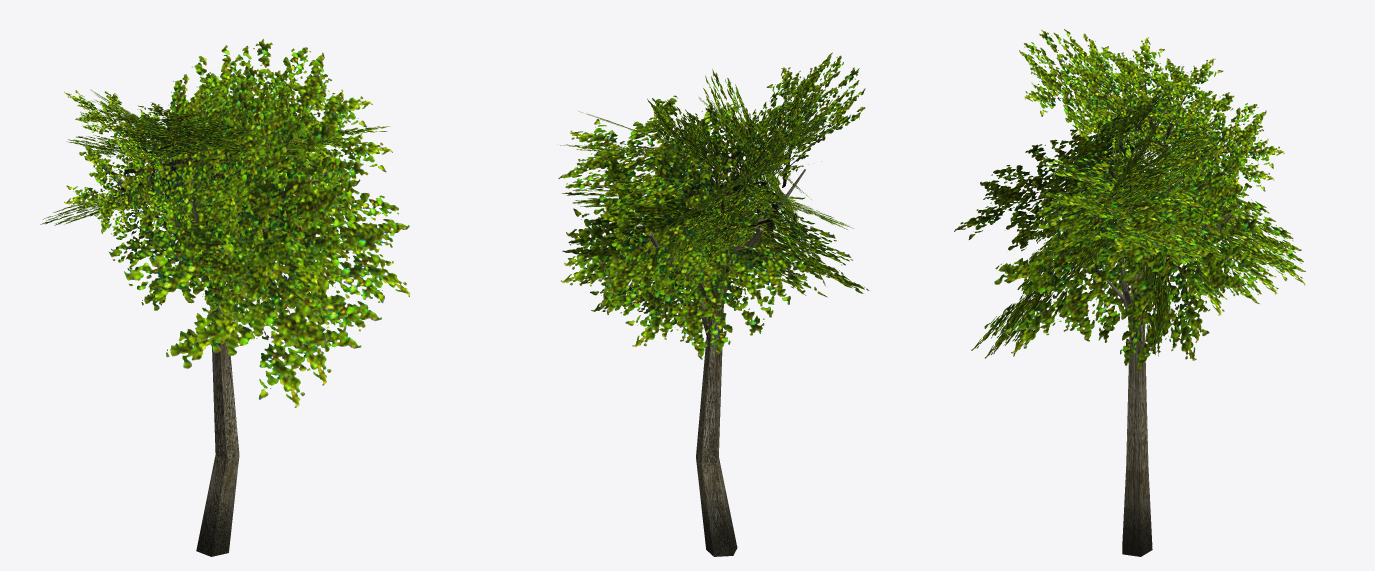
File: Tree_3a_atlas.fbx
3 renders of one model, left to right at view 1: azimuth 30°, elevation 25°; view 2: azimuth 150°, elevation 25°; view 3: azimuth 270°, elevation 25°, orthographic. The views are drawn at different scales.
Visible parts, largest first — view 1: polySurface2; view 2: polySurface2; view 3: polySurface2.
Boxes of the visible parts, x1=… form: polySurface2: x1=40, y1=39, x2=410, y2=556; polySurface2: x1=558, y1=52, x2=869, y2=556; polySurface2: x1=954, y1=29, x2=1305, y2=556.
Bounding box in the file's own units: 5.13 × 6.38 × 4.91.
